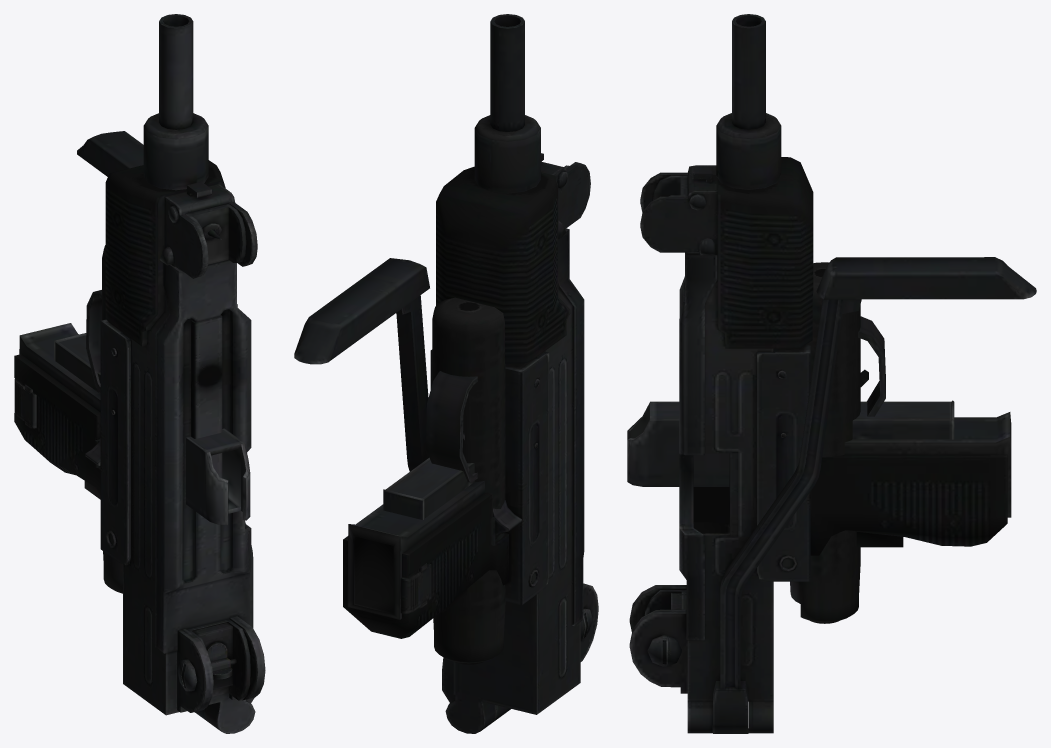
The model's file is Dual_Uzi_Mini.obj.
3 renders of one model, left to right at view 1: azimuth 30°, elevation 25°; view 2: azimuth 150°, elevation 25°; view 3: azimuth 270°, elevation 25°, orthographic. The views are drawn at different scales.
Visible parts, largest first — view 1: Model_Uzi_03,Model_Uzi_2, Model_Magazine, Model_Silencer; view 2: Model_Uzi_03,Model_Uzi_2, Model_Silencer, Model_Magazine; view 3: Model_Uzi_03,Model_Uzi_2, Model_Silencer, Model_Magazine.
Boxes of the visible parts, x1,y1,x2,y2 form: Model_Uzi_03,Model_Uzi_2: [14, 14, 265, 733]; Model_Magazine: [54, 333, 250, 524]; Model_Silencer: [102, 245, 122, 593]; Model_Uzi_03,Model_Uzi_2: [294, 14, 598, 733]; Model_Silencer: [432, 297, 505, 664]; Model_Magazine: [383, 457, 474, 519]; Model_Uzi_03,Model_Uzi_2: [629, 14, 1036, 733]; Model_Silencer: [790, 262, 860, 623]; Model_Magazine: [627, 400, 954, 486].
Size of the model in its own units: 0.0656 by 0.3693 by 0.1971.
2 materials, 2 textured.
